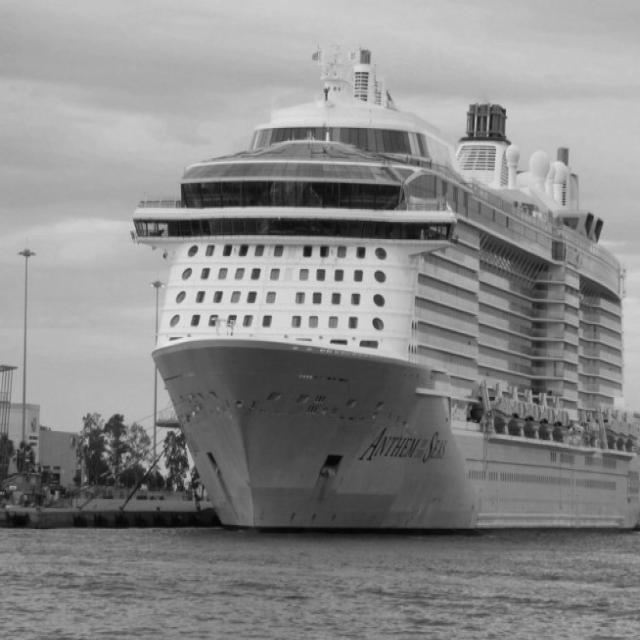cruises: (125, 38, 640, 547)
